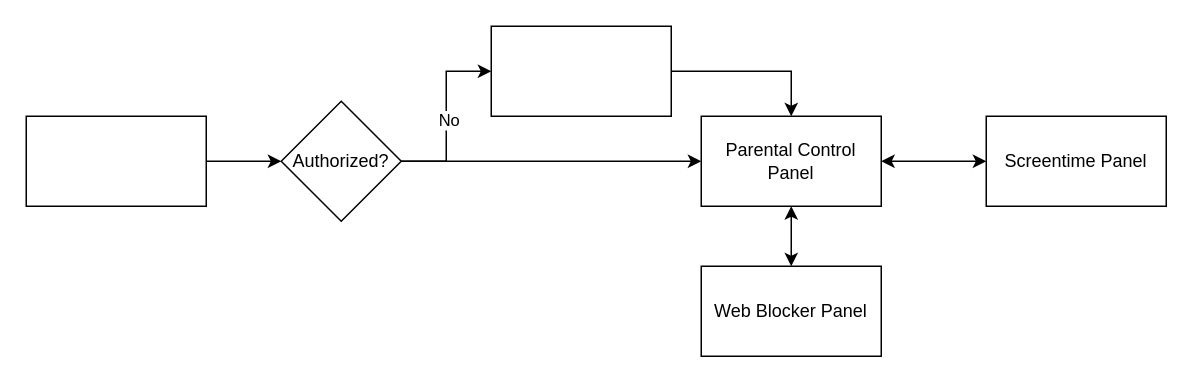
Some shapes in this 1193 by 383 pixel diagram are drawn without their labels. The shapes that lost their labels are listed below. From the top down, each one's centre as x and y in pixels, then its label:
At point (580, 70): "TFA Code Entry".
At point (115, 160): "Login Screen".
